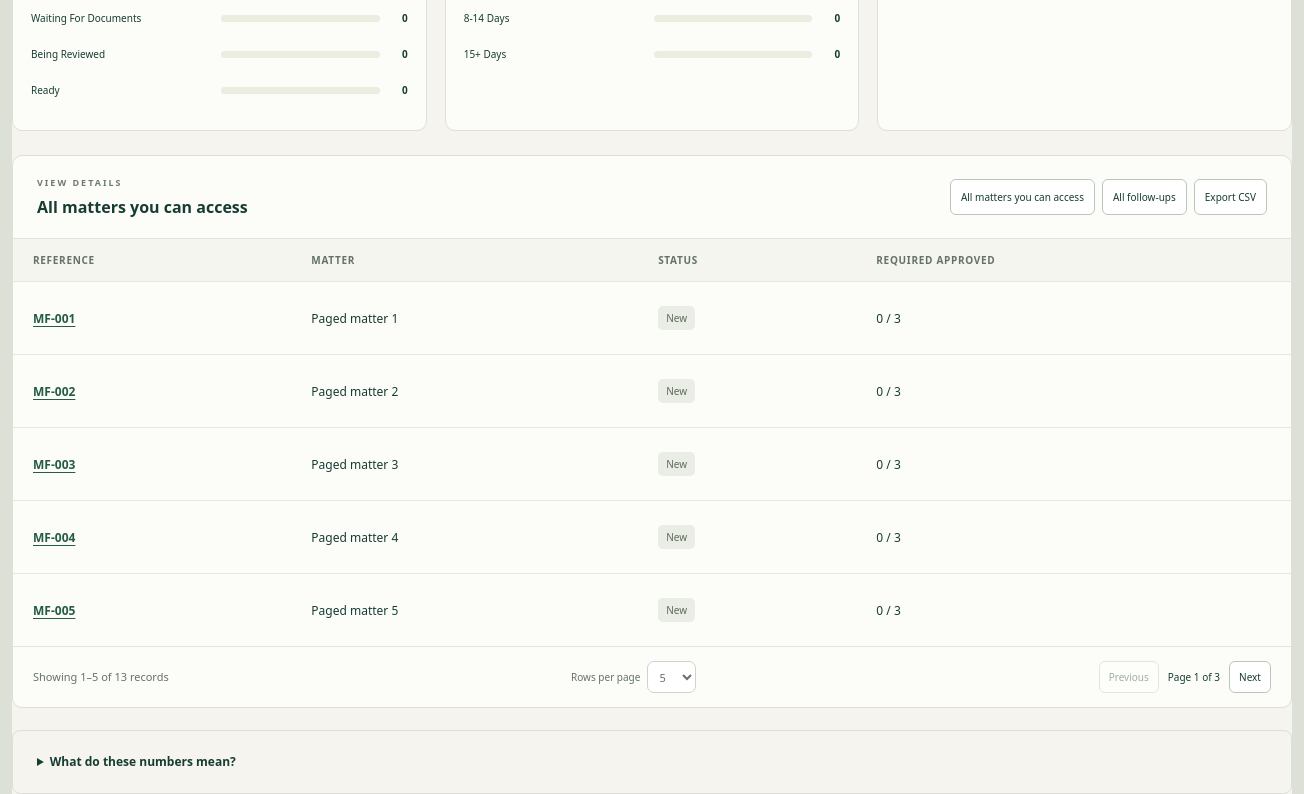
Test: underlying views paginate and can return from follow-ups to all matters
The width and height of the screenshot is (1304, 794).
Later steps or results of the test are not shown.
(page scrolled)
Expected: the button with aria-label "Previous analytics page" is disabled, [1099,661,1159,693]
Click the button "Next". click: (1250, 677)
box: [1229,661,1271,693]
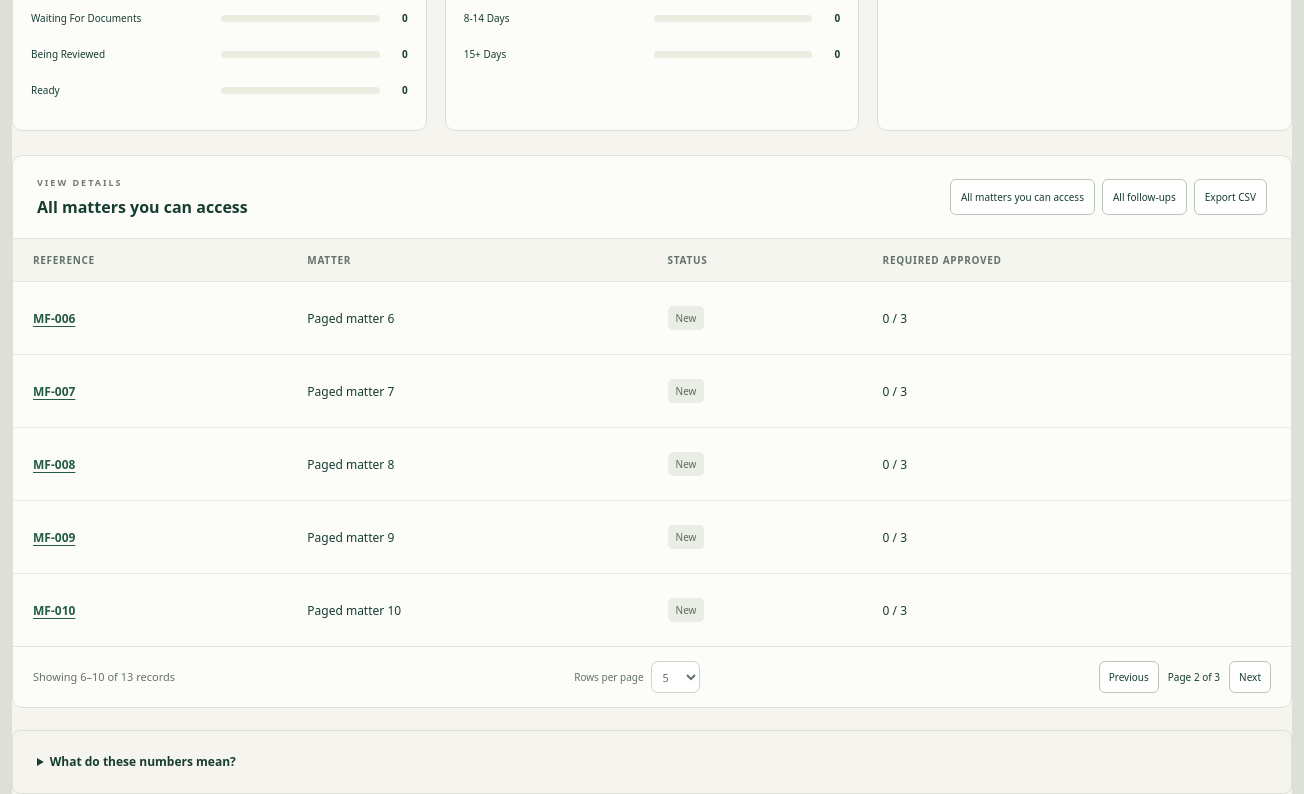
Click the button "Next". click: (1250, 677)
box: [1229,661,1271,693]
(page scrolled)
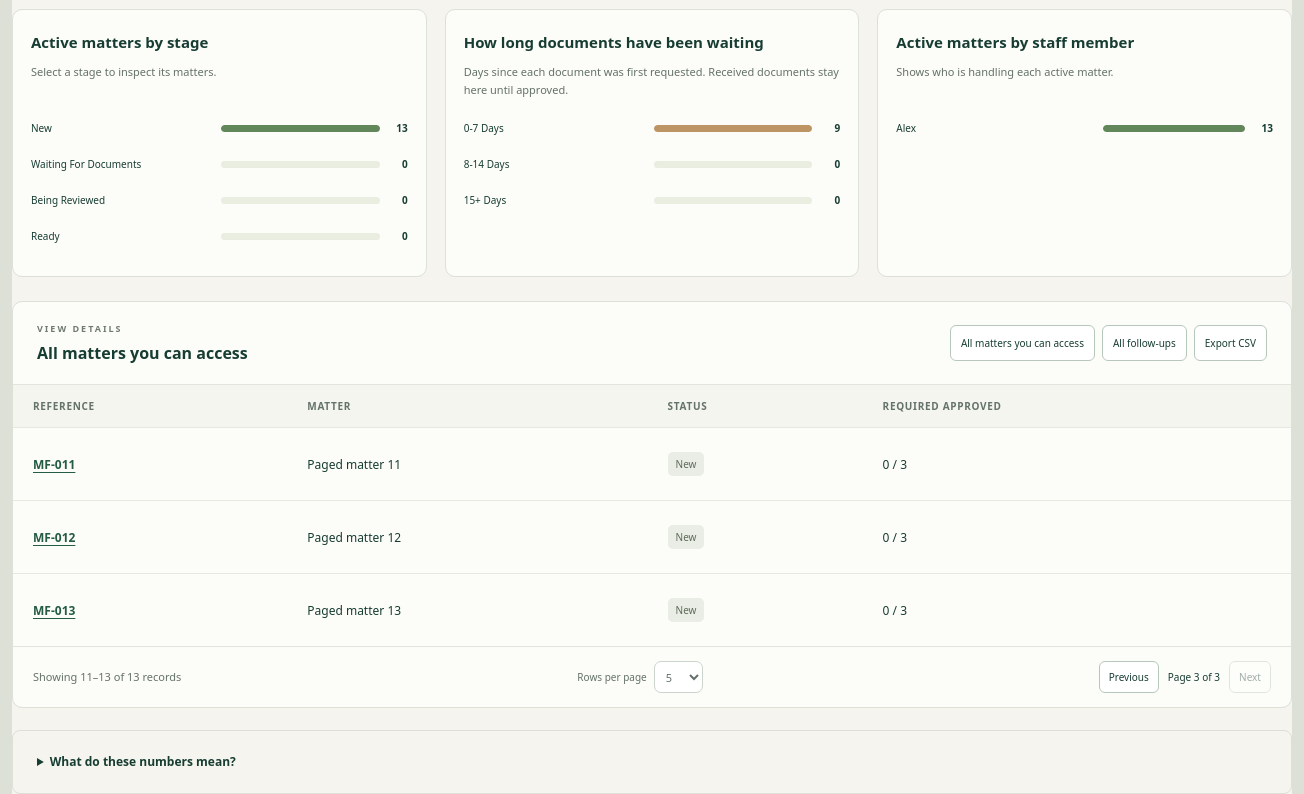
Expected: the table shows "Paged matter 13", [307,602,401,619]
Expected: the button "Next" is disabled, [1229,661,1271,693]
Click the button "All follow-ups". click: (1144, 343)
box: [1102,325,1187,361]
(page scrolled)
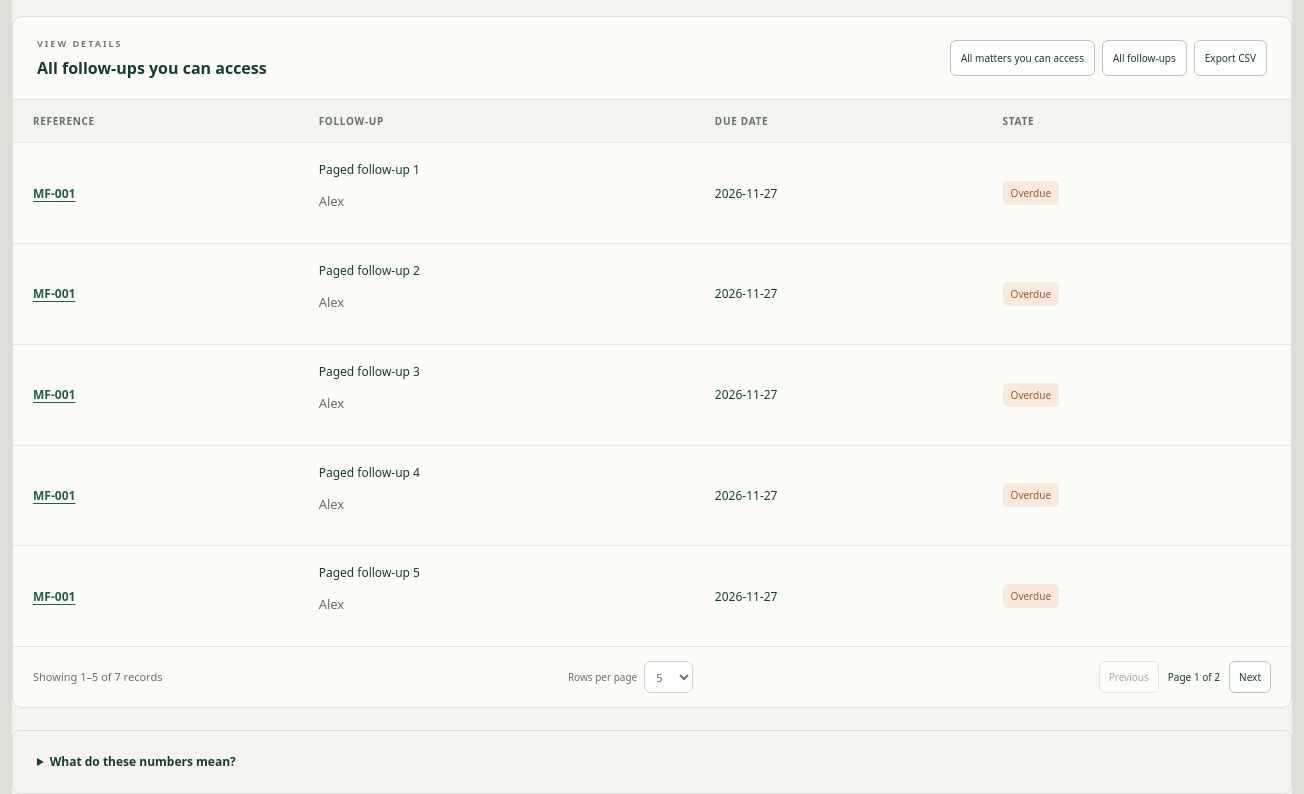
Expected: the button "Next" is shown, [1229,661,1271,693]
Expected: the text "Page 1 of 2" is shown, [1168,670,1220,684]
